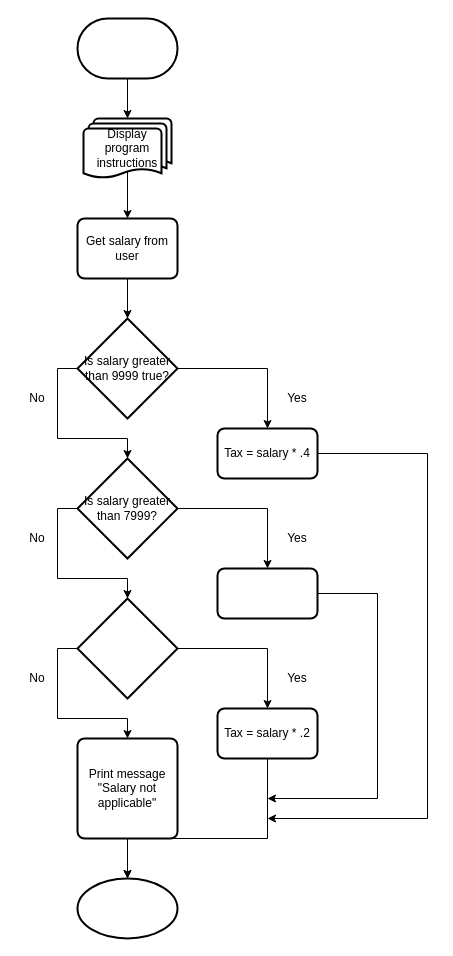
The diagram is 453 pixels wide and 956 high, and some of its shapes have lost their labels. Each missing label, with the box of its shape:
End: (76, 877, 178, 939)
Is salary greater than 4999?: (76, 597, 178, 699)
Start: (76, 17, 178, 79)
Tax = salary * .3: (216, 567, 318, 619)
